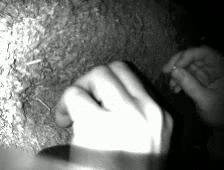corn: (171, 66, 177, 69)
